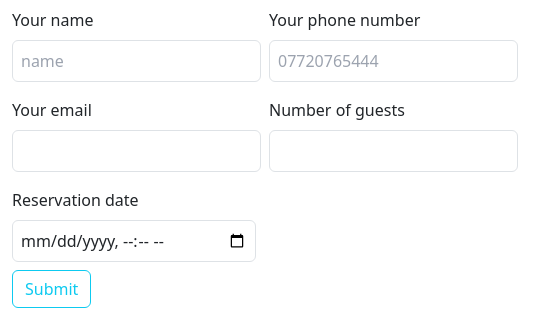
it: LoginForm › should show an error message on API fail
Type "testing@email.com" into the field with test id "email" at (136, 151), box [12, 130, 261, 172]
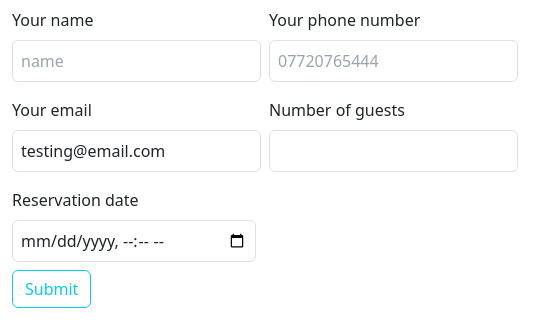
Type "01234567890" into the field with test id "phone" at (394, 61), box [269, 40, 518, 82]
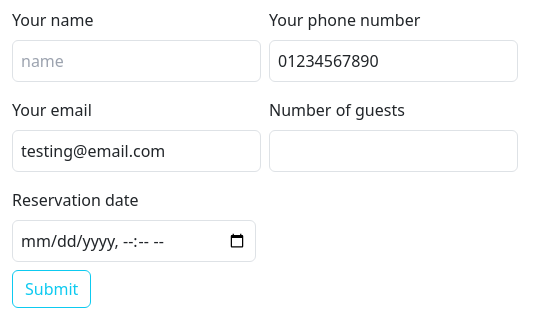
Type "Tester" into the field with test id "name" at (136, 61), box [12, 40, 261, 82]
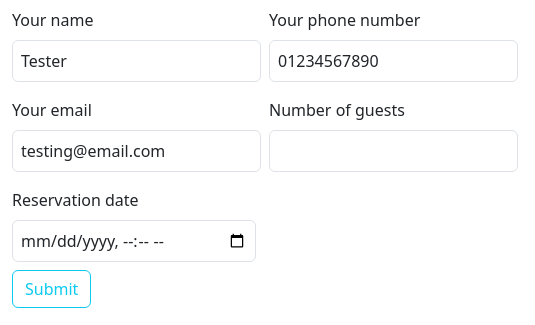
Type "1" into the number field with test id "numberOfPeople" at (394, 151), box [269, 130, 518, 172]
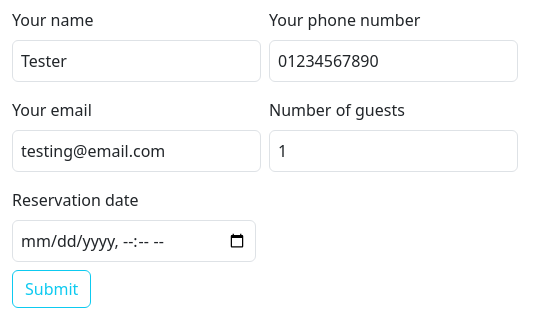
Type "2024-10-27T00:00" into the field with test id "dayOfBooking" at (134, 241), box [12, 220, 256, 262]
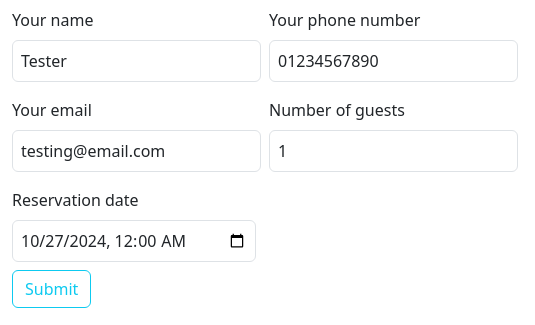
Click the button with test id "submitBtn" at (52, 289), box [12, 270, 91, 308]
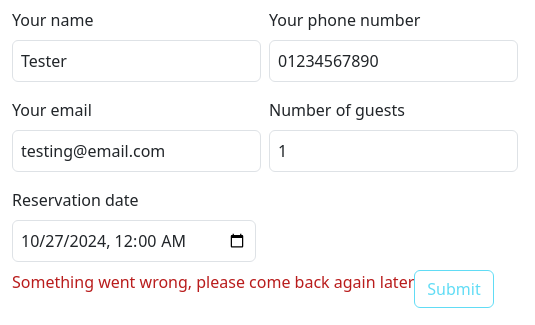
Result: the text with test id "validationError" reads "Something went wrong, please come back again later" at [12, 271, 414, 293]
